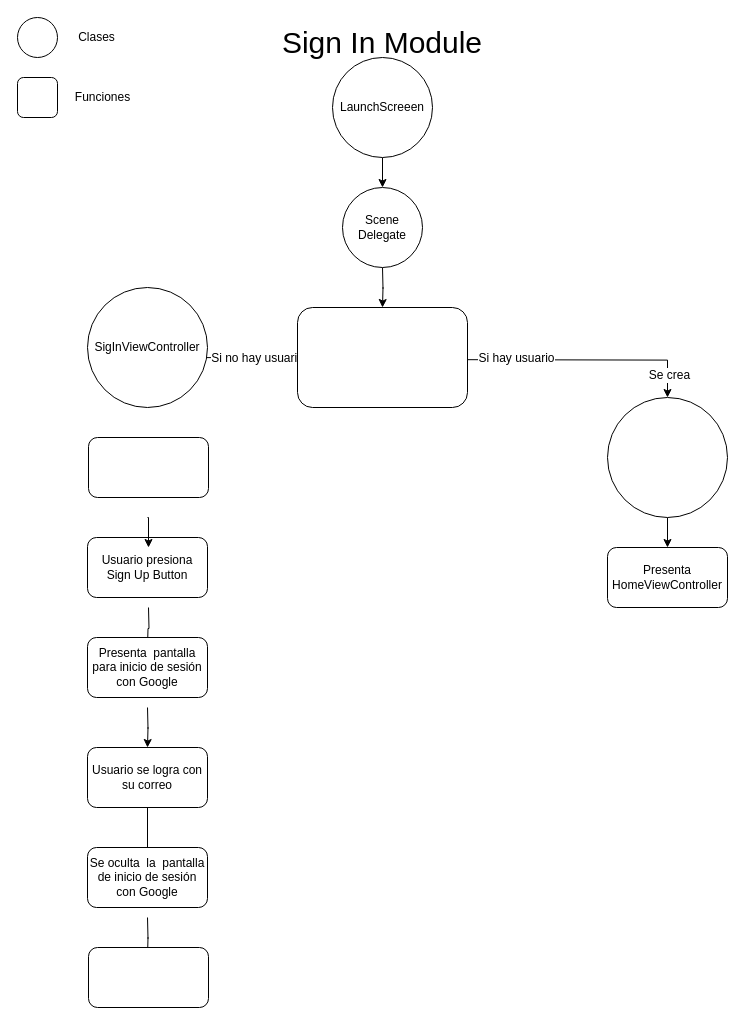
The diagram is 745 pixels wide and 1025 high, and some of its shapes have lost their labels. The box of each missing label's shape, as (x1, y1, x2, y2) in pixels:
HomeViewController: (606, 396, 728, 518)
Presenta SignInViewController: (88, 436, 208, 498)
Se presenta el HomeViewController: (88, 946, 208, 1008)
Verificaion de usuarios: (296, 306, 468, 408)
